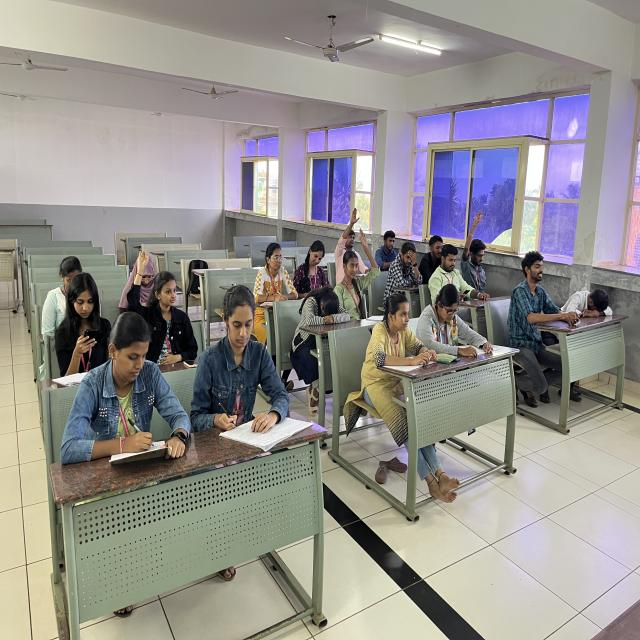Hand Rising: (129, 246, 197, 362), (330, 218, 377, 306), (460, 202, 506, 287), (334, 199, 371, 277)
Reading: (423, 280, 488, 359)
Sleeping: (290, 275, 346, 347), (558, 272, 616, 315)
Using Phone: (32, 272, 112, 375), (433, 246, 485, 305)
Writing: (186, 278, 300, 452), (95, 308, 196, 472), (244, 227, 304, 325), (292, 216, 331, 300)
